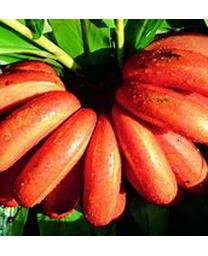banana: (0, 34, 207, 223)
